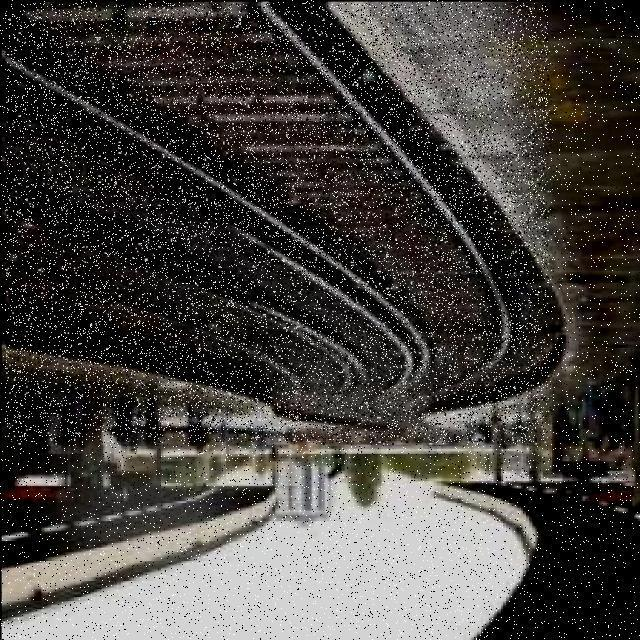rail: (5, 3, 548, 442)
